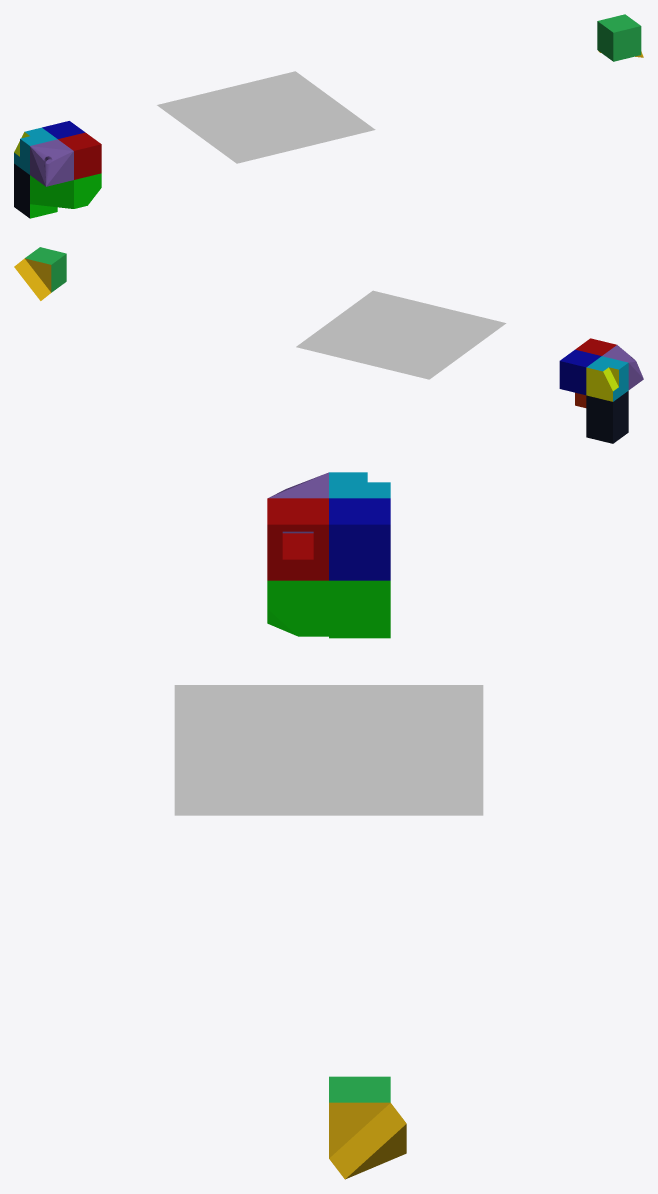
Rendered from simple_model.obj.
3 renders of one model, top to bottom at view 1: azimuth 30°, elevation 25°; view 2: azimuth 150°, elevation 25°; view 3: azimuth 270°, elevation 25°, orthographic. The views are drawn at different scales.
Visible parts, largest first — view 1: Plane_Plane.001, 6_Cube.005, 4_Cube.002, 3_Cube.008, 8_Cube.007, 5_Cube.004, 1, 7_Cube.006, 2_Cube.010; view 2: Plane_Plane.001, 6_Cube.005, 5_Cube.004, 1, 2_Cube.010, 4_Cube.002, 3_Cube.008; view 3: Plane_Plane.001, 6_Cube.005, 2_Cube.010, 3_Cube.008, 5_Cube.004, 7_Cube.006, 1, 4_Cube.002.
Part boxes in pixels (left/top/right/bottom): Plane_Plane.001: left=157, top=71, right=375, bottom=163; 6_Cube.005: left=597, top=14, right=643, bottom=61; 4_Cube.002: left=30, top=139, right=73, bottom=186; 3_Cube.008: left=58, top=132, right=101, bottom=179; 8_Cube.007: left=30, top=175, right=73, bottom=208; 5_Cube.004: left=14, top=163, right=57, bottom=218; 1: left=14, top=127, right=57, bottom=174; 7_Cube.006: left=74, top=173, right=101, bottom=208; 2_Cube.010: left=42, top=121, right=85, bottom=138; Plane_Plane.001: left=296, top=290, right=506, bottom=379; 6_Cube.005: left=14, top=247, right=66, bottom=300; 5_Cube.004: left=586, top=391, right=628, bottom=443; 1: left=586, top=356, right=628, bottom=401; 2_Cube.010: left=559, top=349, right=601, bottom=395; 4_Cube.002: left=602, top=345, right=643, bottom=389; 3_Cube.008: left=575, top=338, right=616, bottom=355; Plane_Plane.001: left=174, top=685, right=483, bottom=815; 6_Cube.005: left=329, top=1076, right=406, bottom=1179; 2_Cube.010: left=329, top=498, right=390, bottom=580; 3_Cube.008: left=267, top=498, right=328, bottom=580; 5_Cube.004: left=329, top=580, right=390, bottom=638; 7_Cube.006: left=267, top=580, right=328, bottom=636; 1: left=329, top=472, right=390, bottom=498; 4_Cube.002: left=268, top=472, right=328, bottom=533.
Bounding box in the file's own units: 44.49 × 5 × 10.
